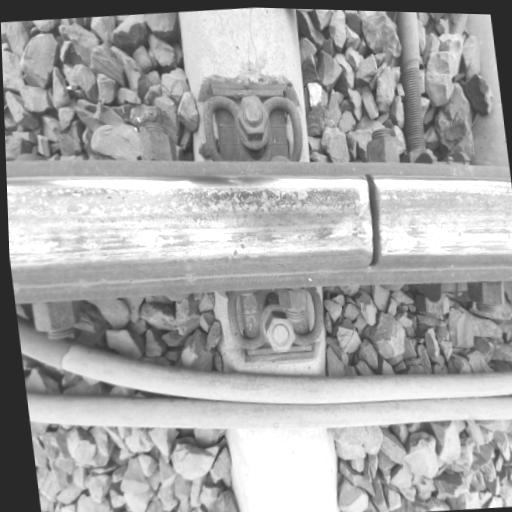bolt: (227, 81, 280, 145), (256, 304, 310, 360)
broken_rail: (142, 139, 512, 311)
clip: (192, 81, 330, 168), (226, 273, 335, 364)
